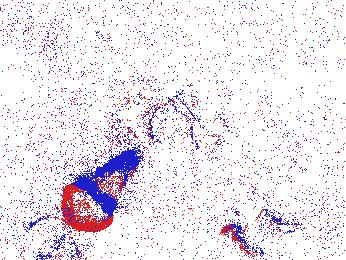flame jellyfish: (61, 148, 143, 231), (214, 208, 302, 260), (20, 216, 87, 260)
